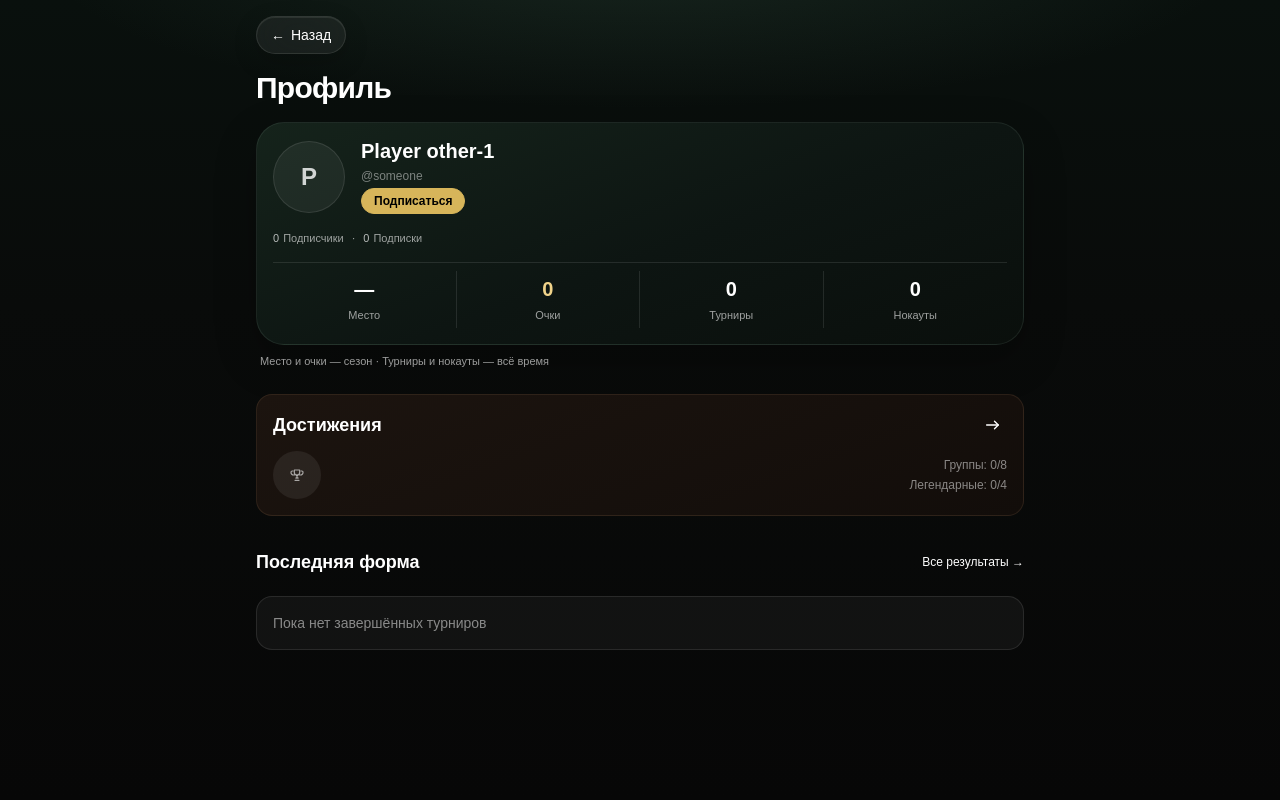
Scenario: followers / following lists › a zero count is still clickable and shows the empty state
Click the button with test id "follow-followers" at point(308, 238), box [273, 230, 344, 246]
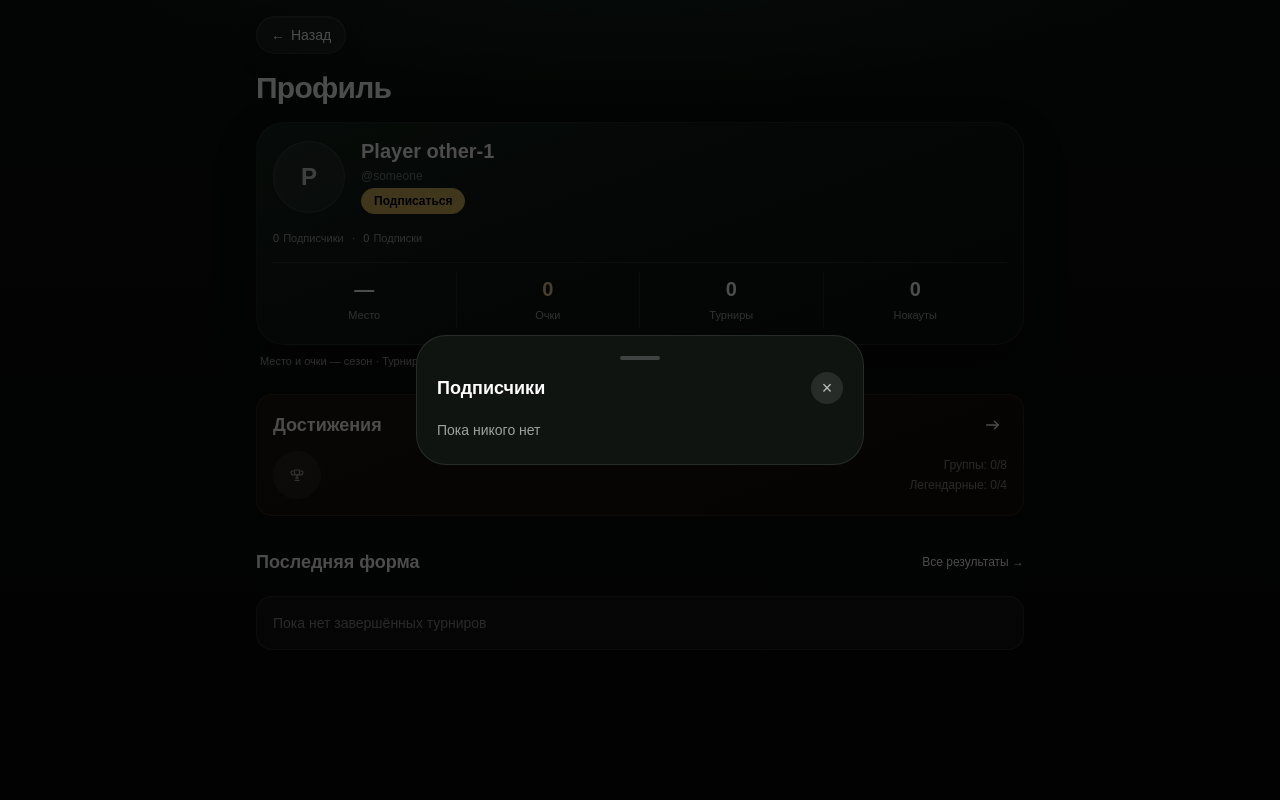
Check: the dialog shows "Пока никого нет", box [437, 422, 540, 438]
